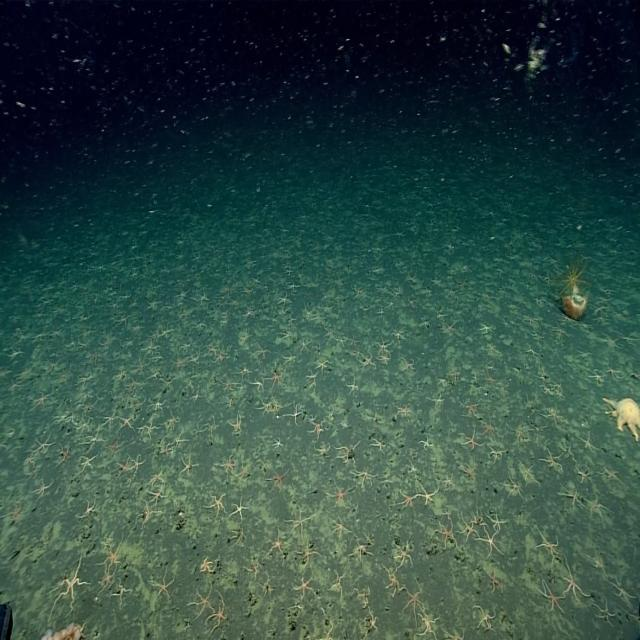brittle-stars: (52, 555, 86, 606), (562, 562, 585, 602), (538, 581, 564, 615), (402, 585, 424, 622), (285, 508, 310, 539), (208, 593, 228, 631), (102, 537, 125, 568), (536, 527, 558, 559), (479, 527, 502, 556), (192, 585, 215, 614), (153, 572, 175, 602), (436, 517, 457, 548), (326, 482, 349, 509), (383, 566, 403, 597), (474, 605, 496, 633), (268, 526, 286, 560), (594, 596, 615, 624), (418, 612, 439, 640), (614, 574, 635, 602), (267, 465, 290, 490), (292, 576, 315, 600), (206, 492, 228, 517), (560, 485, 582, 509), (502, 476, 523, 501), (336, 443, 359, 465), (33, 434, 55, 457), (543, 445, 564, 469), (351, 538, 371, 563), (393, 543, 412, 569), (587, 495, 608, 518), (33, 478, 54, 500), (353, 466, 376, 486), (460, 429, 480, 452), (137, 504, 157, 527), (332, 516, 351, 540), (486, 568, 504, 593), (459, 515, 477, 540), (99, 566, 116, 592), (418, 483, 438, 505), (300, 543, 320, 565), (520, 460, 538, 484), (182, 454, 200, 478), (112, 581, 129, 606), (78, 453, 98, 474), (542, 405, 562, 426), (84, 429, 105, 449), (232, 496, 250, 519), (482, 416, 499, 440), (488, 510, 506, 532), (78, 498, 96, 520), (581, 434, 599, 456), (399, 489, 418, 509), (234, 464, 251, 486), (33, 390, 51, 410), (198, 418, 216, 438), (219, 455, 236, 476), (461, 459, 476, 482), (147, 487, 166, 505), (600, 465, 620, 482), (364, 610, 377, 636), (106, 438, 123, 457), (130, 454, 146, 474), (164, 412, 180, 432), (201, 556, 217, 576), (514, 422, 528, 444), (148, 469, 165, 487), (601, 334, 619, 351), (142, 419, 158, 438), (269, 371, 285, 390), (115, 458, 131, 477), (574, 463, 590, 482), (286, 405, 301, 425), (59, 444, 73, 465), (395, 404, 412, 421), (489, 446, 506, 463), (552, 321, 569, 338), (120, 414, 136, 432), (76, 416, 92, 434), (445, 627, 467, 640), (231, 414, 245, 434), (310, 418, 324, 438), (376, 338, 393, 354), (607, 363, 624, 379), (462, 402, 478, 419), (620, 332, 638, 347), (370, 436, 386, 452), (127, 376, 142, 393), (172, 354, 186, 372), (220, 375, 234, 393), (346, 376, 358, 396), (102, 412, 116, 429), (485, 370, 499, 387), (418, 435, 432, 452), (151, 394, 164, 412), (402, 357, 417, 372), (430, 392, 444, 408), (254, 344, 268, 360), (158, 440, 172, 456), (316, 358, 330, 373), (283, 350, 297, 365), (316, 444, 330, 459), (235, 362, 249, 377), (590, 369, 604, 384), (320, 301, 334, 316), (251, 378, 264, 394), (360, 352, 373, 368), (215, 349, 228, 365), (161, 323, 174, 339), (300, 337, 312, 354), (444, 473, 456, 490), (480, 322, 495, 335), (146, 298, 159, 313), (286, 280, 299, 294), (379, 352, 392, 366), (526, 345, 539, 359), (281, 328, 294, 342), (278, 292, 291, 305), (302, 304, 314, 318), (207, 343, 218, 358), (199, 289, 210, 304), (274, 438, 286, 451), (540, 384, 552, 396), (554, 378, 564, 392)
